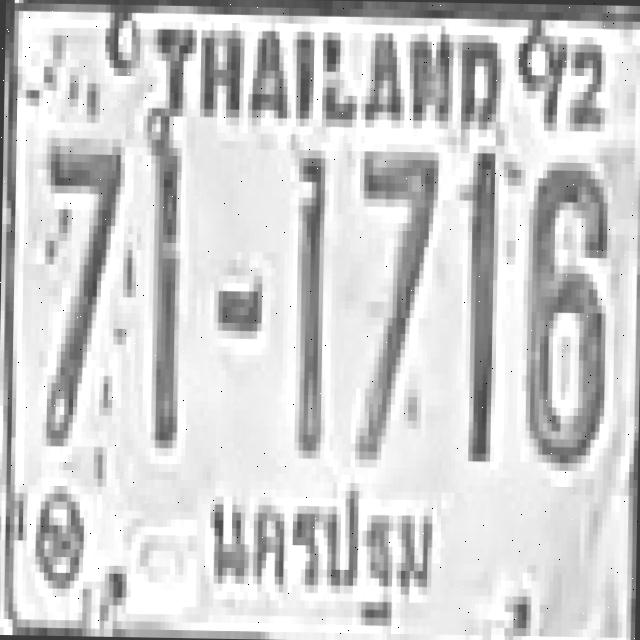1: (141, 127, 182, 444), (146, 124, 182, 440), (459, 145, 495, 453), (292, 154, 323, 446)
6: (522, 154, 606, 455)
7: (355, 144, 434, 452), (41, 138, 120, 439)
NakhonPathom: (197, 464, 441, 627)
